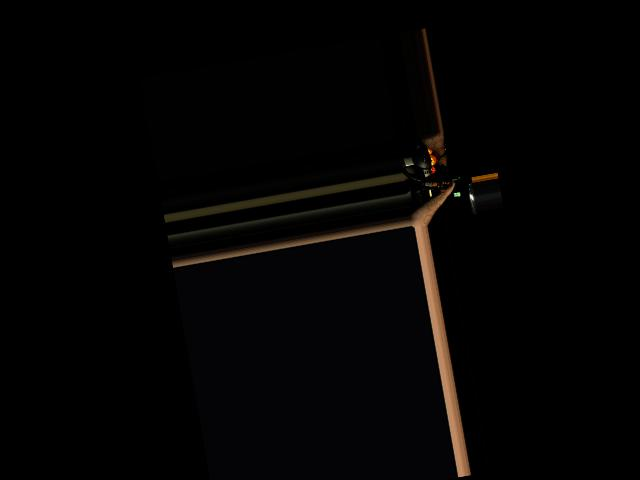beer: (421, 175, 455, 194)
